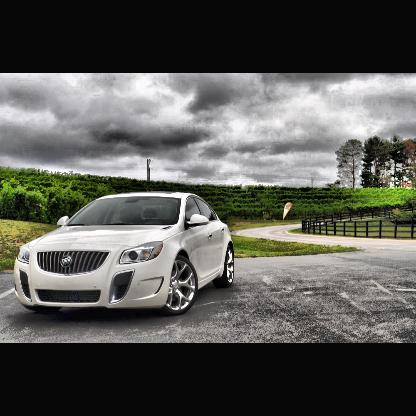Buick Regal GS 2012: (15, 193, 237, 316)
